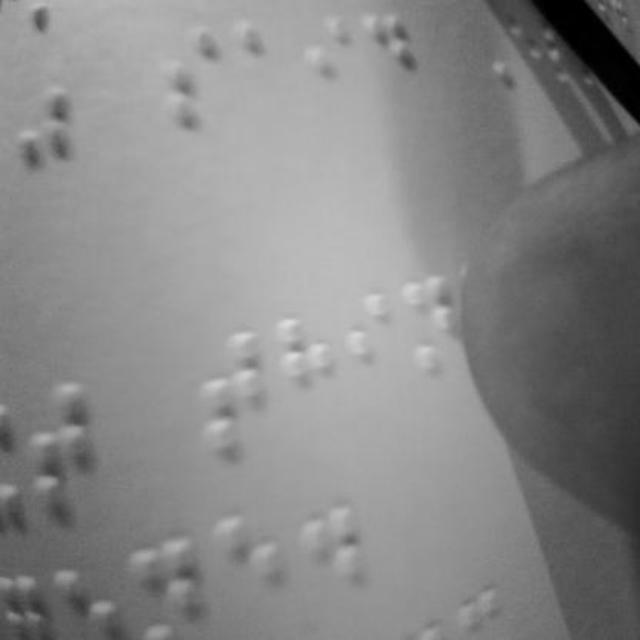braiile: (26, 374, 100, 516), (215, 499, 285, 626), (200, 328, 266, 454), (400, 266, 458, 392), (158, 18, 220, 132), (339, 289, 397, 407), (277, 308, 335, 422), (300, 10, 356, 114), (361, 6, 414, 110), (231, 14, 283, 112)
